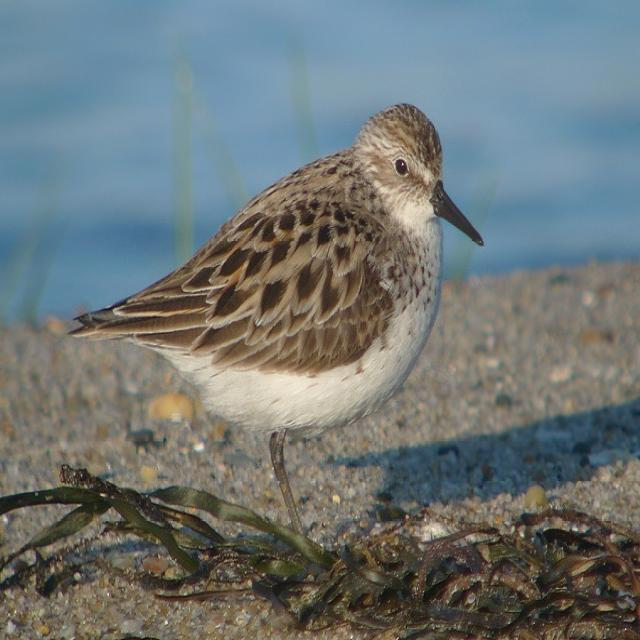bird: (62, 88, 496, 584)
